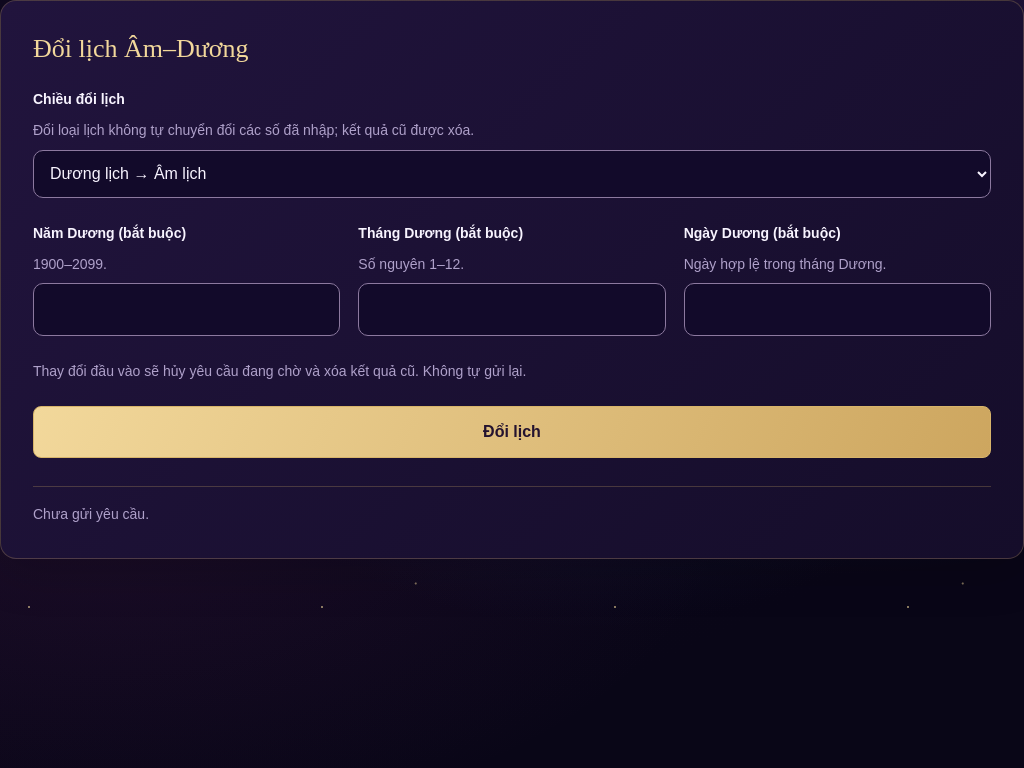
it: Phase 6 independent calendar forms › ignores an old response after edits and prevents duplicate pending submissions
Type "2000" into the field labelled "Năm Dương (bắt buộc)". click: (187, 309)
box: [33,283,340,336]
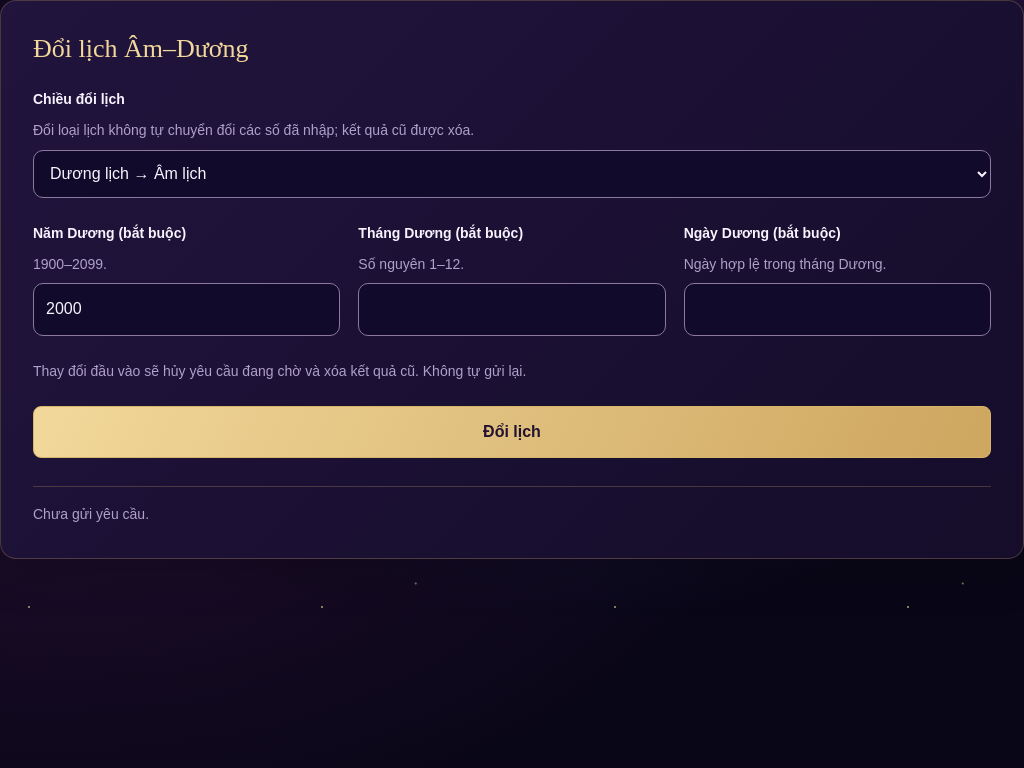
Type "1" into the field labelled "Tháng Dương (bắt buộc)". click: (512, 309)
box: [358,283,666,336]
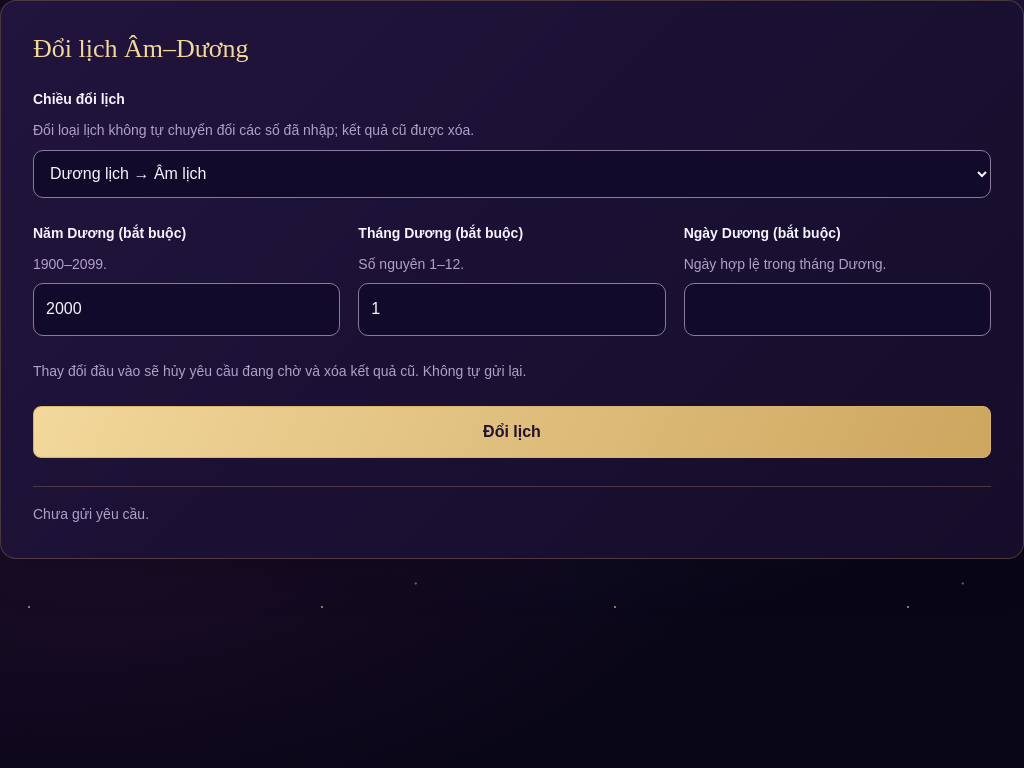
Type "1" into the field labelled "Ngày Dương (bắt buộc)". click: (837, 309)
box: [684,283,991,336]
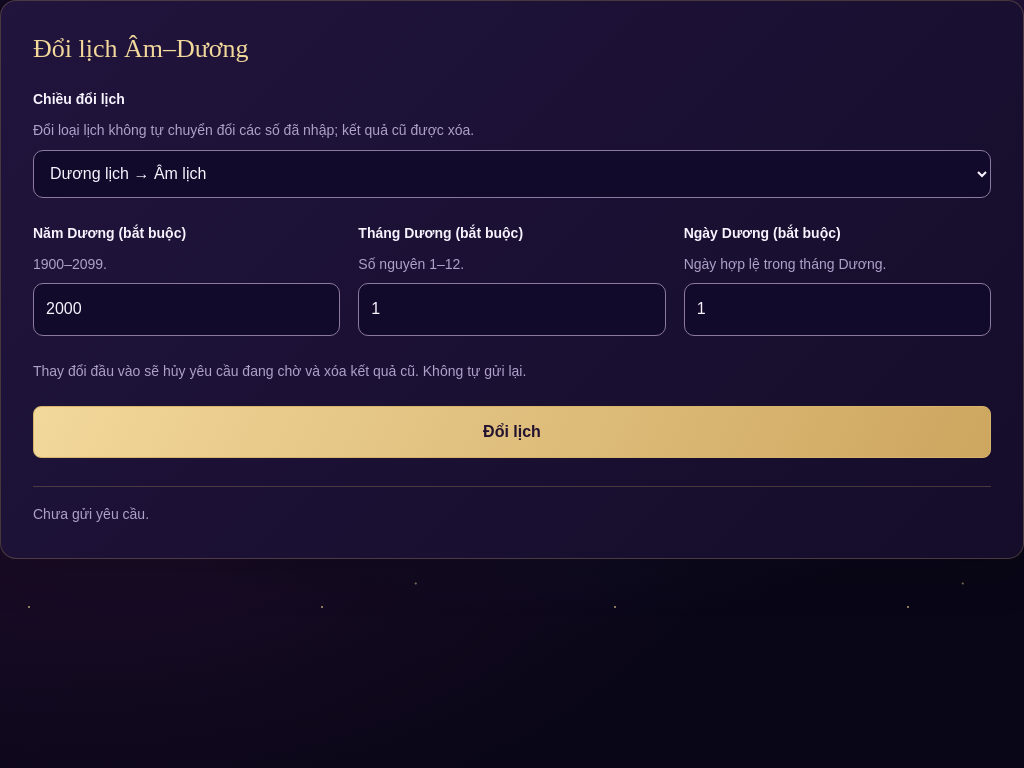
Submit the form named "Đổi lịch Âm–Dương", box [33,88,991,458]
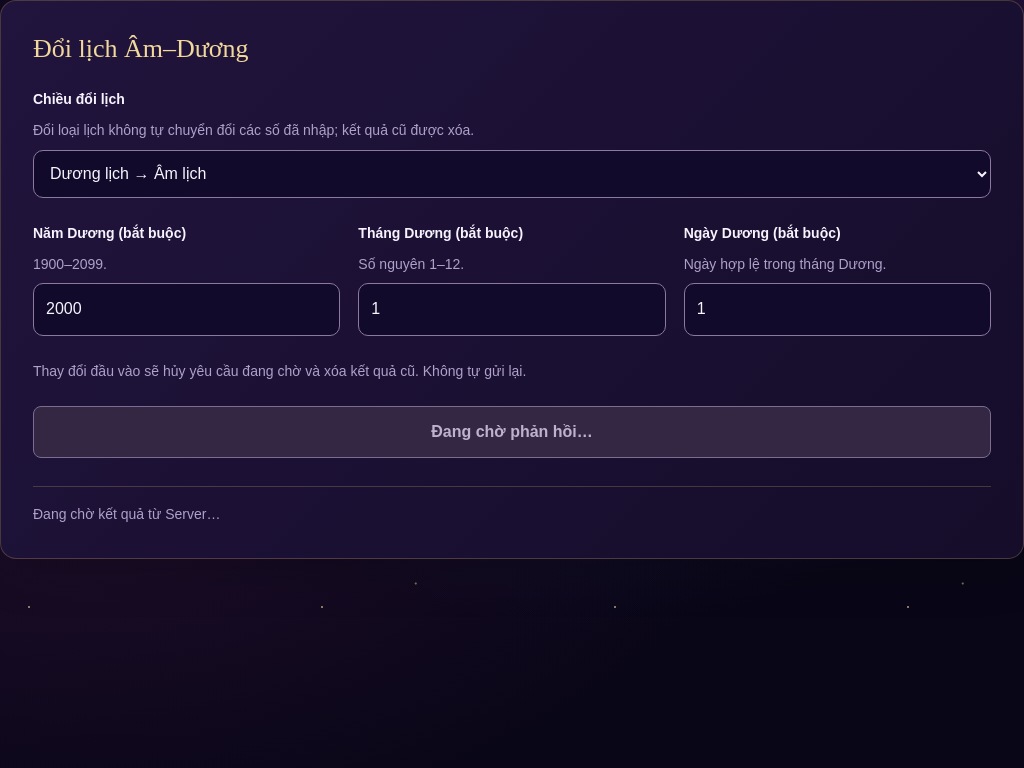
Submit the form named "Đổi lịch Âm–Dương", box [33,88,991,458]
Expected: the button "Đang chờ phản hồi…" is disabled, [33,406,991,458]
Replace the text in the field labelled "Ngày Dương (bắt buộc)" with "2". click: (837, 309)
box: [684,283,991,336]
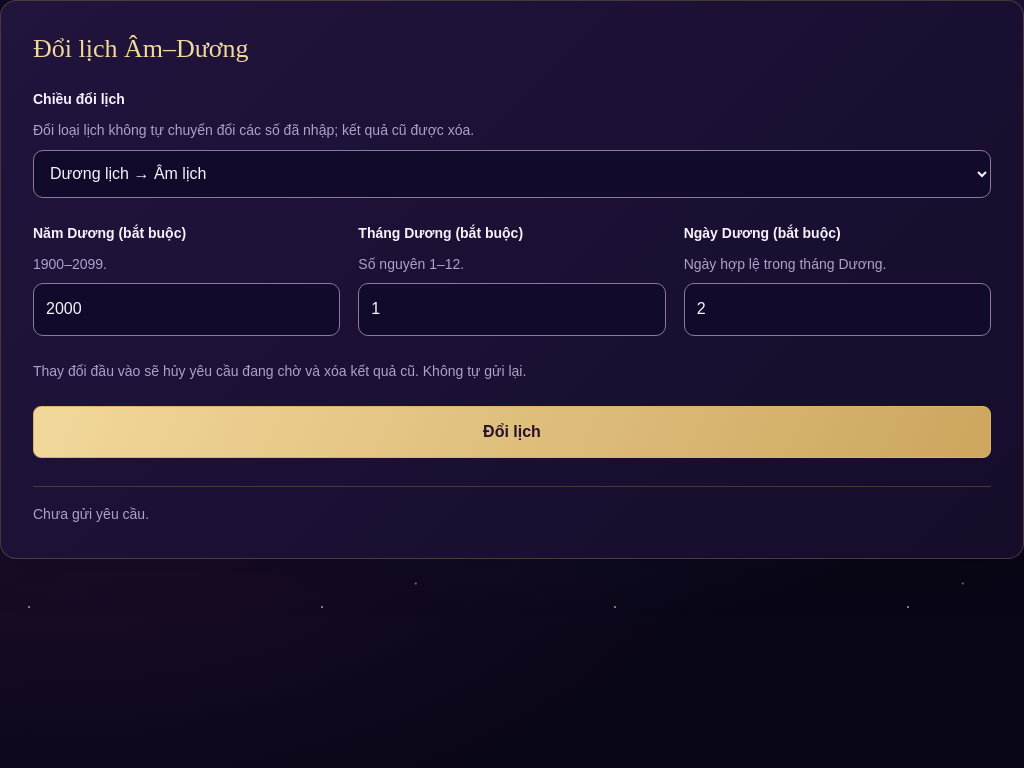
Submit the form named "Đổi lịch Âm–Dương", box [33,88,991,458]
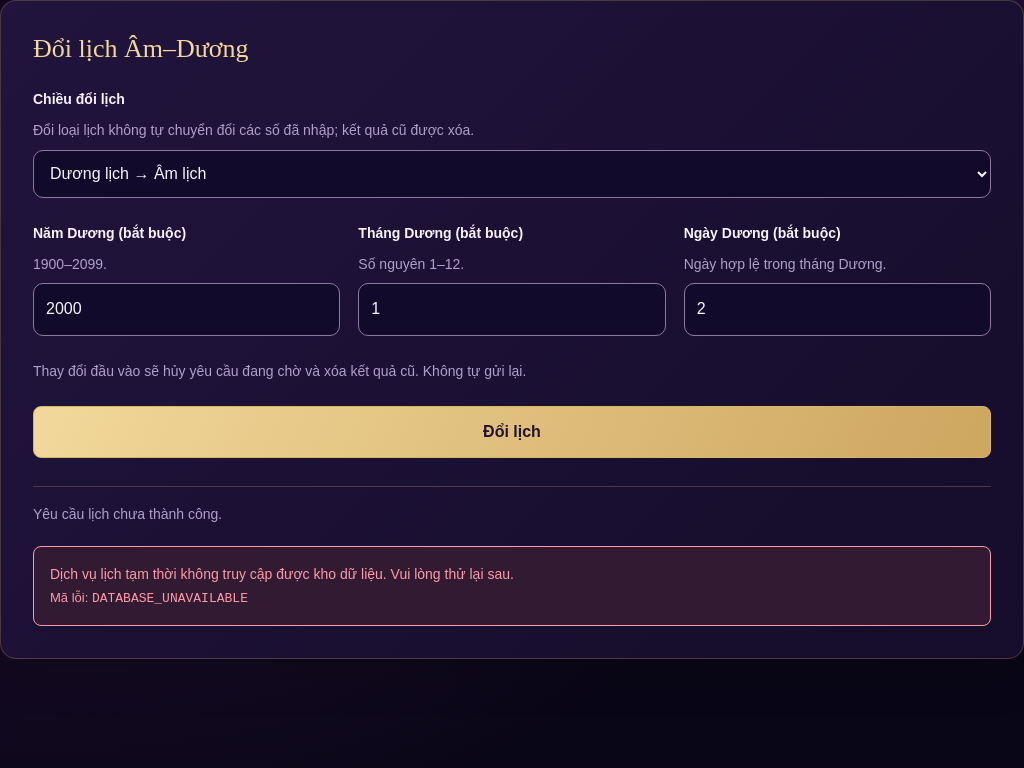
Expected: the 2nd message shows "DATABASE_UNAVAILABLE", [92,590,248,606]
